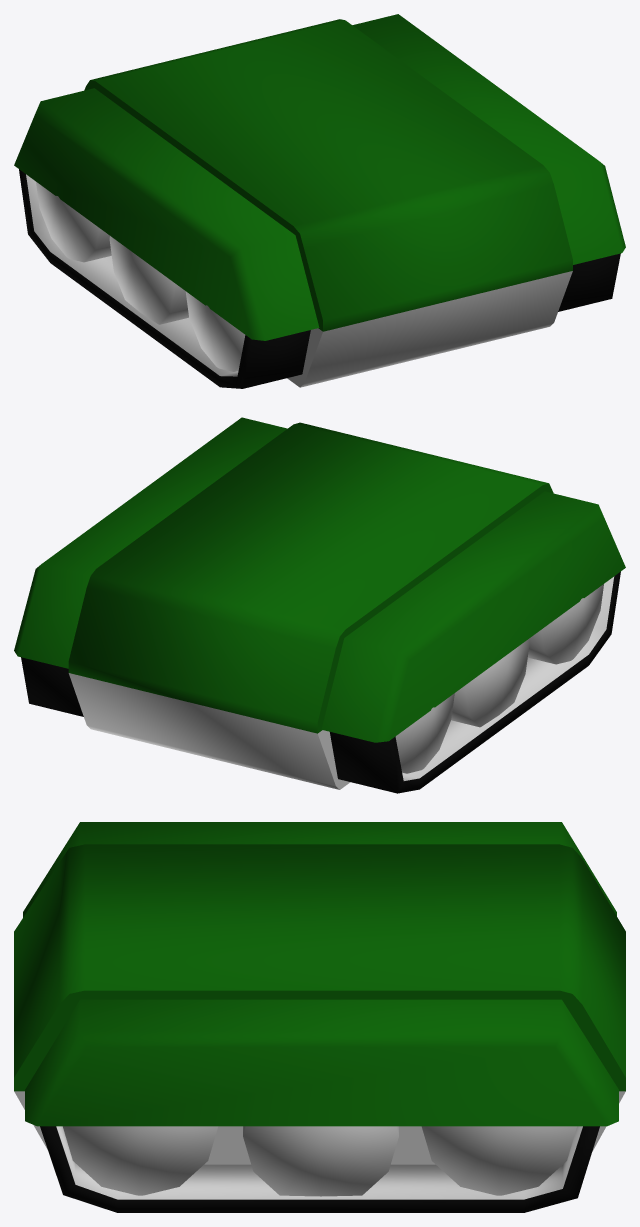
The picture shows the model from 3 angles, top to bottom: view 1: azimuth 30°, elevation 25°; view 2: azimuth 150°, elevation 25°; view 3: azimuth 270°, elevation 25°; orthographic projection. The views are drawn at different scales.
Parts seen in each view (by area): view 1: polygon1.002; view 2: polygon1.002; view 3: polygon1.002.
Boxes of the visible parts, left/top/right/bottom form: polygon1.002: left=14, top=14, right=625, bottom=388; polygon1.002: left=14, top=417, right=625, bottom=793; polygon1.002: left=14, top=822, right=625, bottom=1212.
Size of the model in its own units: 0.2011 by 0.08 by 0.236.
